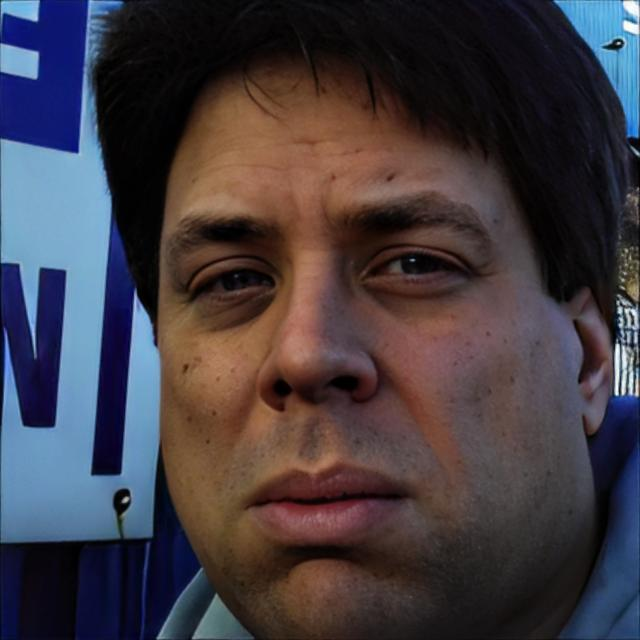disgust: (155, 51, 567, 640)
